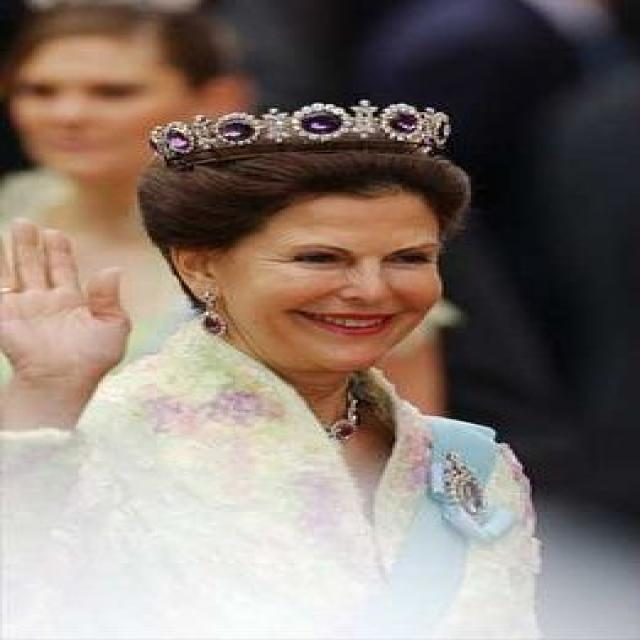Earring: (194, 279, 236, 349)
